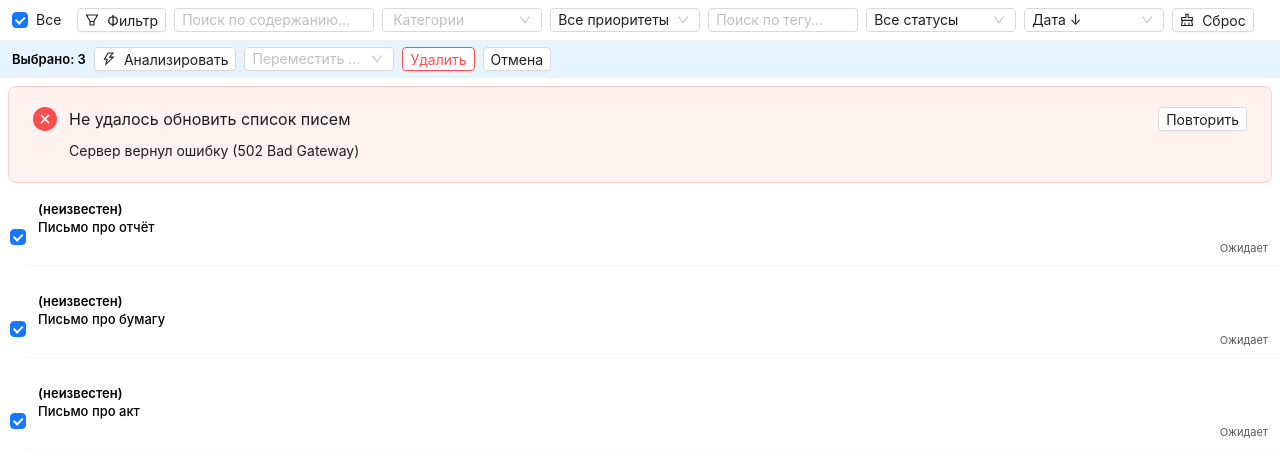
Test case: сбой загрузки и пустой поиск объясняются человеку › «Повторить» перезапрашивает список и убирает сообщение
Check: the text "Не удалось обновить список писем" is shown, box top-left (69, 109), bottom-right (350, 129)
Click the button "Повторить" at (1203,119), box top-left (1158, 107), bottom-right (1247, 131)
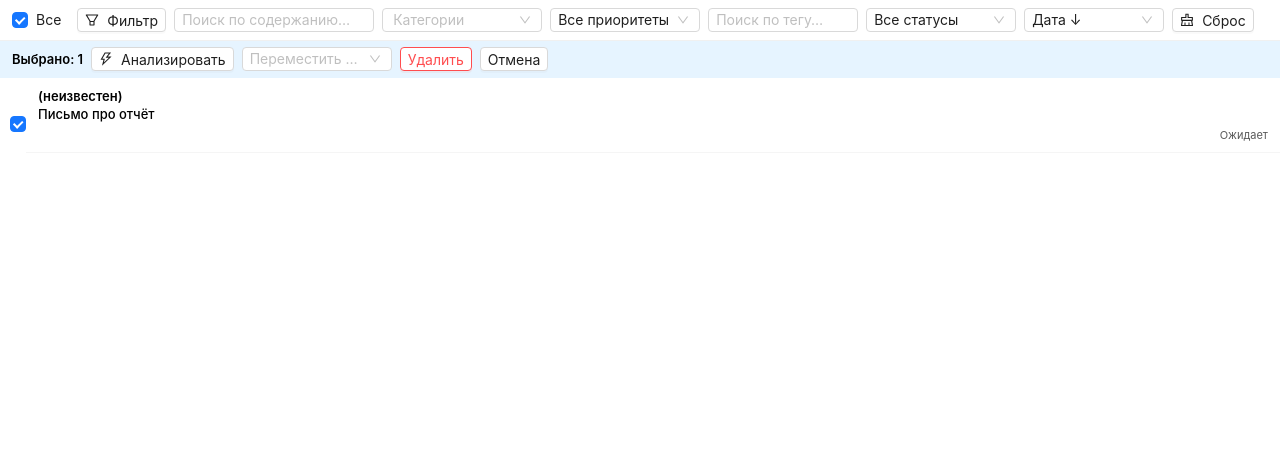
Check: the text "Не удалось обновить список" is gone
